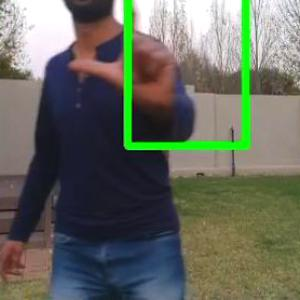land_hand: (66, 0, 186, 112)
